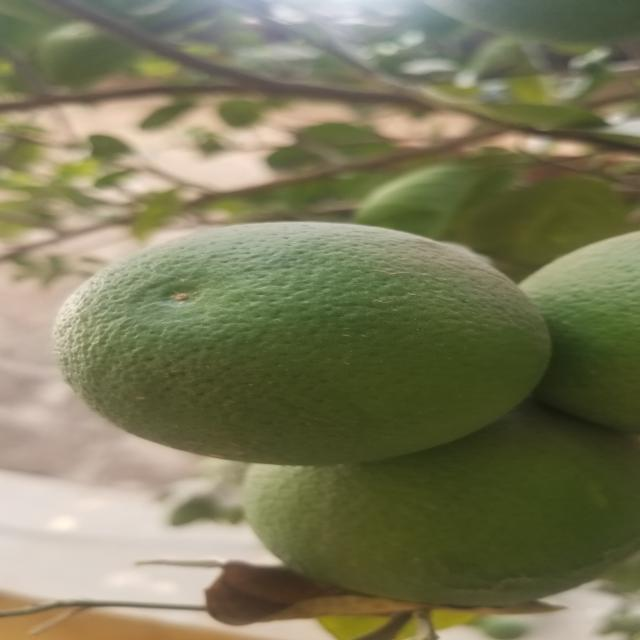Unripe: (59, 224, 545, 460), (258, 414, 633, 605), (522, 227, 630, 436)
